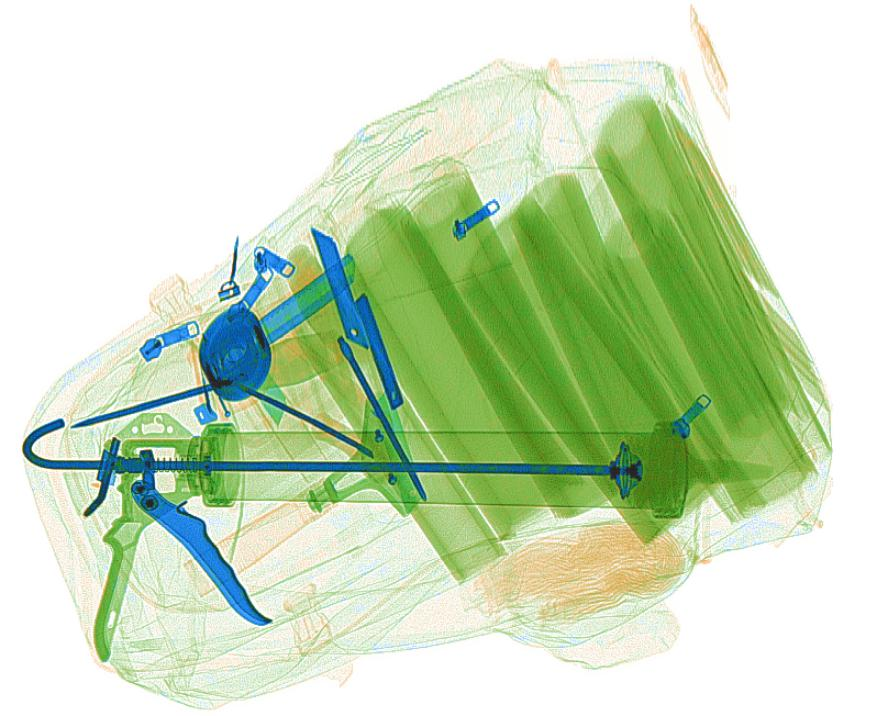knife: (240, 249, 359, 358), (308, 225, 372, 349), (374, 387, 425, 514), (354, 290, 404, 412)
